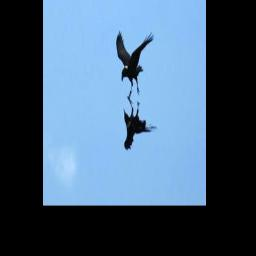Crow: (116, 30, 156, 101)
